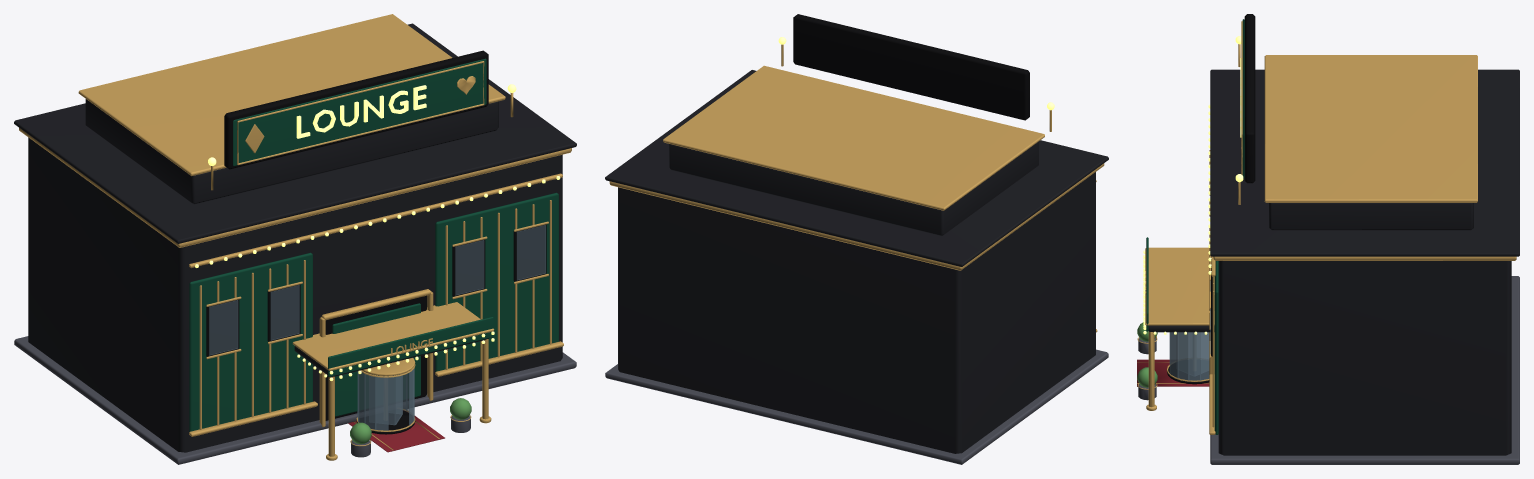
File: casino_building.glb
The picture shows the model from 3 angles, left to right: view 1: azimuth 30°, elevation 25°; view 2: azimuth 150°, elevation 25°; view 3: azimuth 270°, elevation 25°; orthographic projection. The views are drawn at different scales.
Visible parts, largest first — view 1: casino_building; view 2: casino_building; view 3: casino_building.
Boxes of the visible parts, bbox=[...] form: casino_building: bbox=[14, 14, 576, 464]; casino_building: bbox=[605, 14, 1108, 464]; casino_building: bbox=[1137, 14, 1519, 464].
Size of the model in its own units: 20.8 by 15.86 by 18.3.
